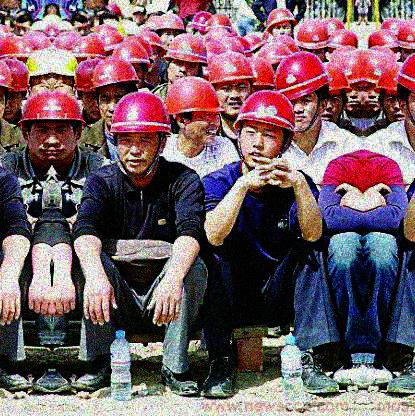helmet: (110, 93, 169, 176), (235, 90, 294, 170), (275, 52, 330, 135), (14, 90, 76, 161), (167, 76, 224, 151), (92, 58, 137, 125), (208, 51, 253, 117), (330, 50, 362, 112), (1, 59, 32, 120), (167, 34, 209, 78), (321, 61, 351, 122), (376, 62, 404, 124), (365, 49, 391, 111), (75, 58, 101, 117), (23, 51, 55, 88), (298, 20, 328, 57), (53, 51, 77, 89), (264, 8, 294, 37)
